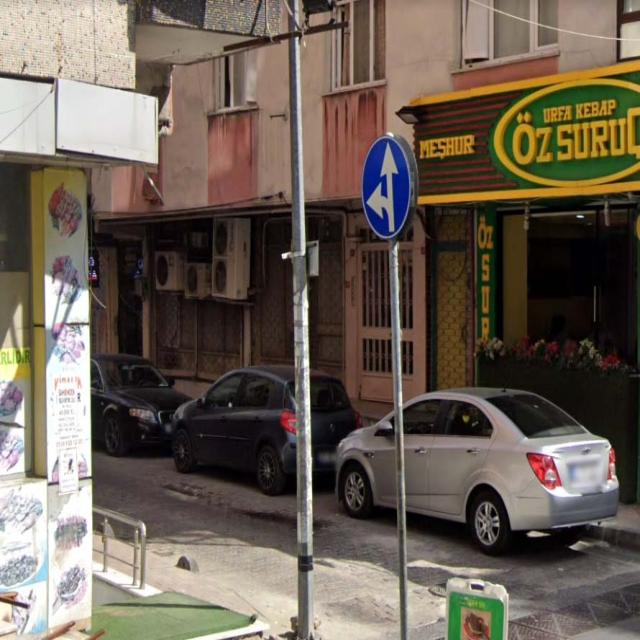ilerisol: (362, 136, 411, 239)
